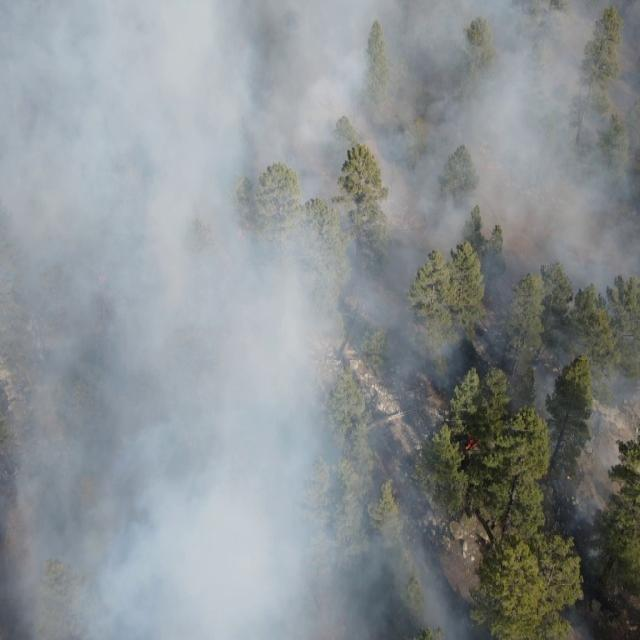fire: (236, 218, 256, 240), (462, 438, 479, 453), (542, 470, 551, 484)
smoke: (0, 0, 450, 640), (449, 0, 640, 398), (520, 399, 640, 527), (451, 581, 589, 640), (576, 525, 613, 576)
